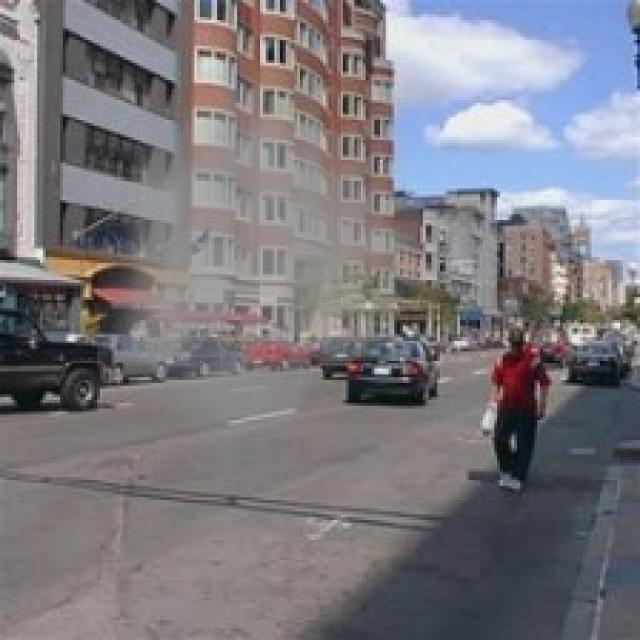Smoke: (97, 49, 452, 468)
